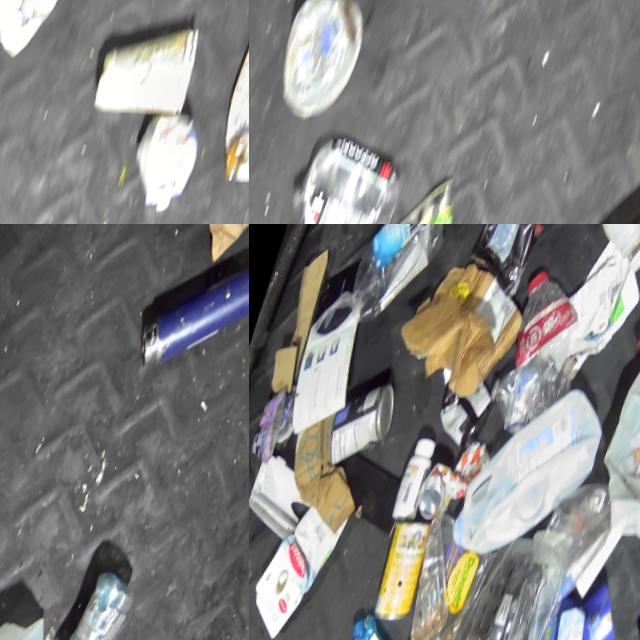can: (322, 370, 407, 475), (418, 438, 487, 527), (383, 168, 476, 224), (625, 321, 640, 400)
milk_jug: (448, 377, 615, 577), (587, 383, 640, 552), (0, 0, 112, 70)
non_white_jug: (515, 588, 611, 640)
plastic_bottle: (279, 132, 417, 224)
